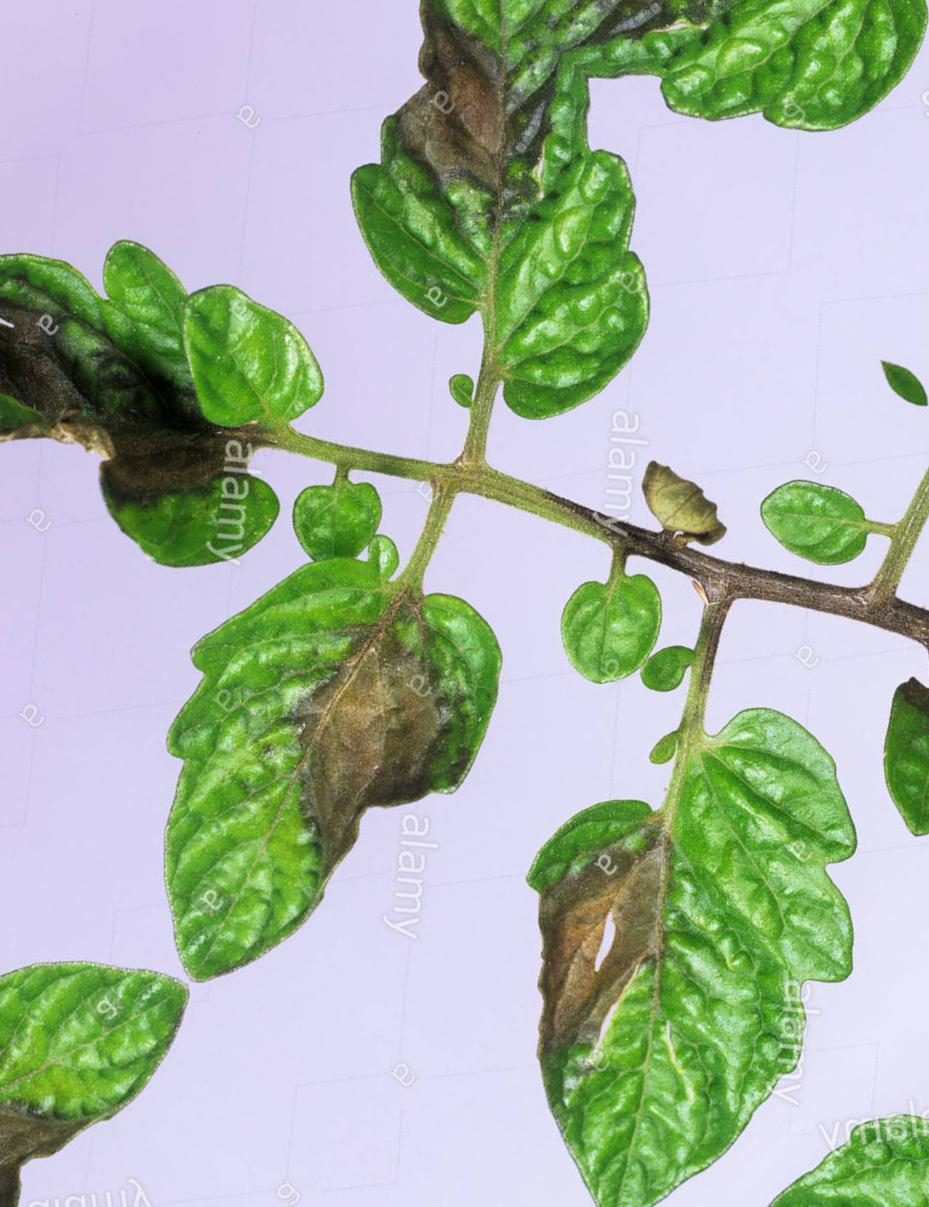Tomato leaf late blight: (0, 454, 568, 1026), (366, 642, 929, 1207), (200, 0, 765, 479), (0, 116, 408, 695)
